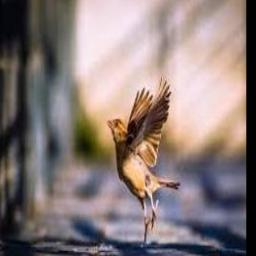Sparrow: (107, 76, 179, 247)
